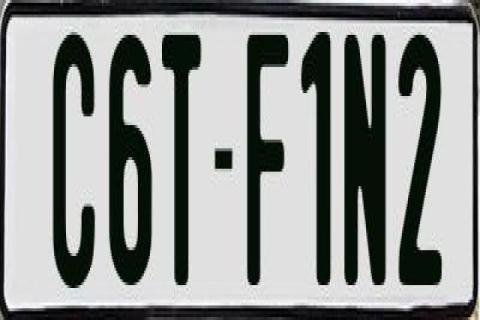0: (399, 26, 449, 294), (106, 32, 148, 288), (300, 24, 332, 288)
C: (52, 23, 102, 291)
F: (248, 32, 289, 294)
N: (342, 27, 386, 286)
T: (162, 29, 200, 282)
